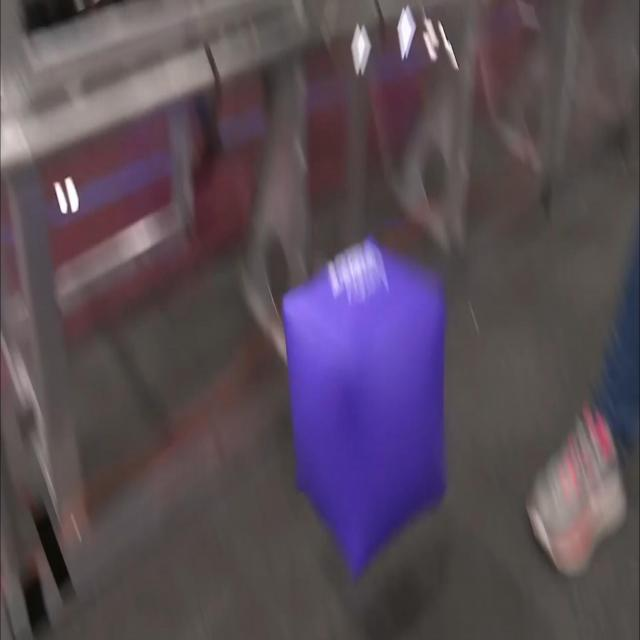frc_cube: (280, 242, 447, 579)
